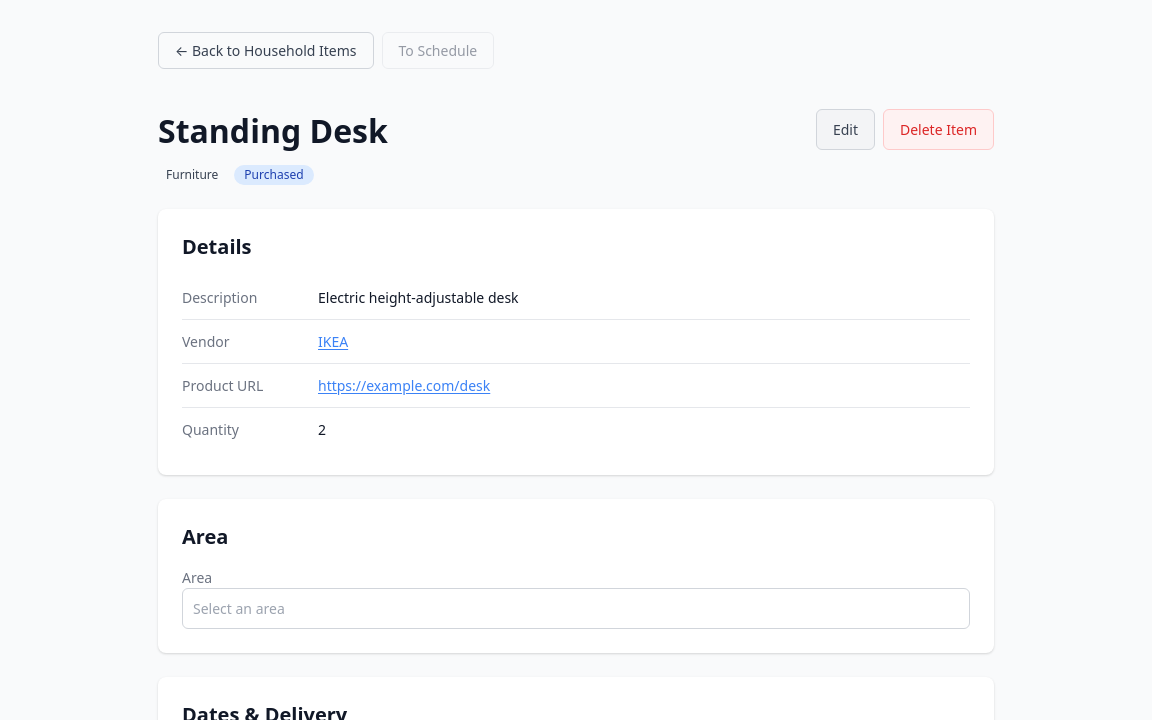
HouseholdItemDetailPage › delete flow — success › opens delete modal on Delete button click
Click the button "Delete Item": (938, 130) [883,109,994,150]
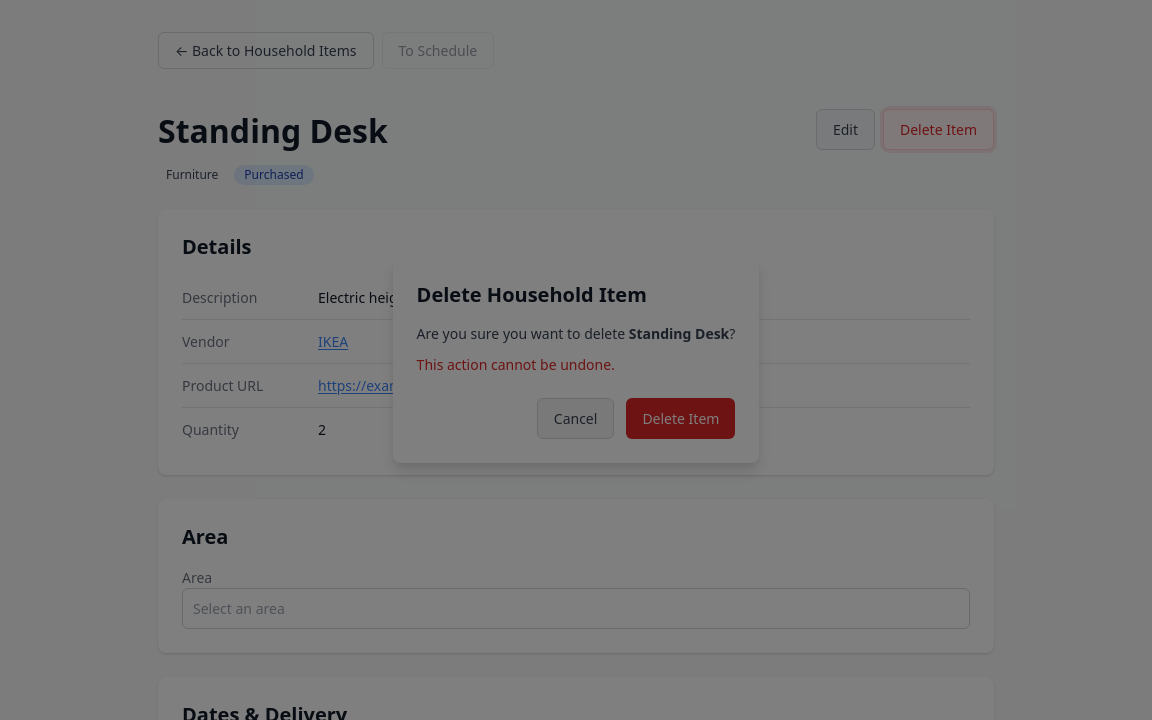
Expected: the dialog is shown
